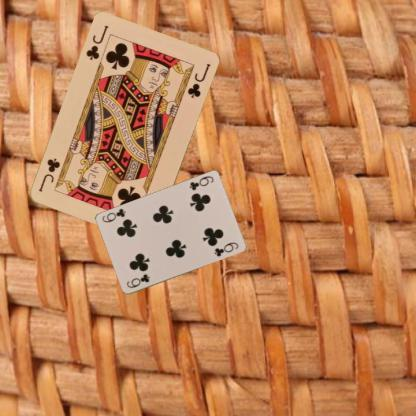6c: (187, 173, 214, 192), (124, 272, 150, 290)
Jc: (83, 23, 110, 62)
